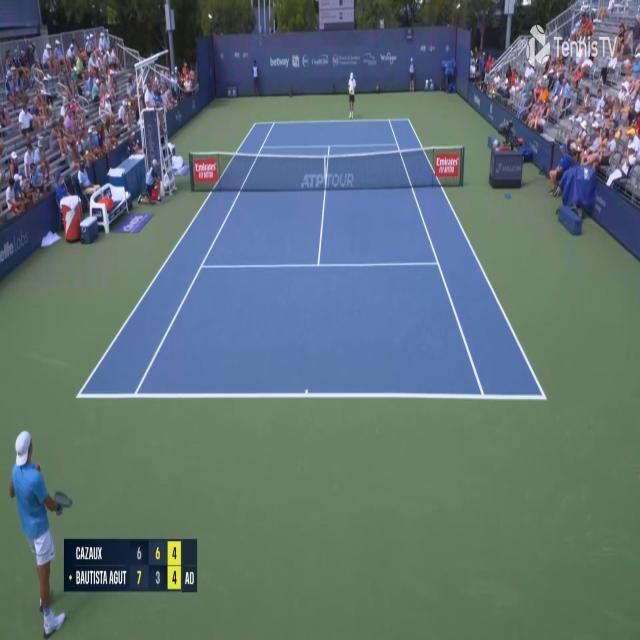tennis-player: (6, 426, 74, 639), (346, 68, 358, 118)
